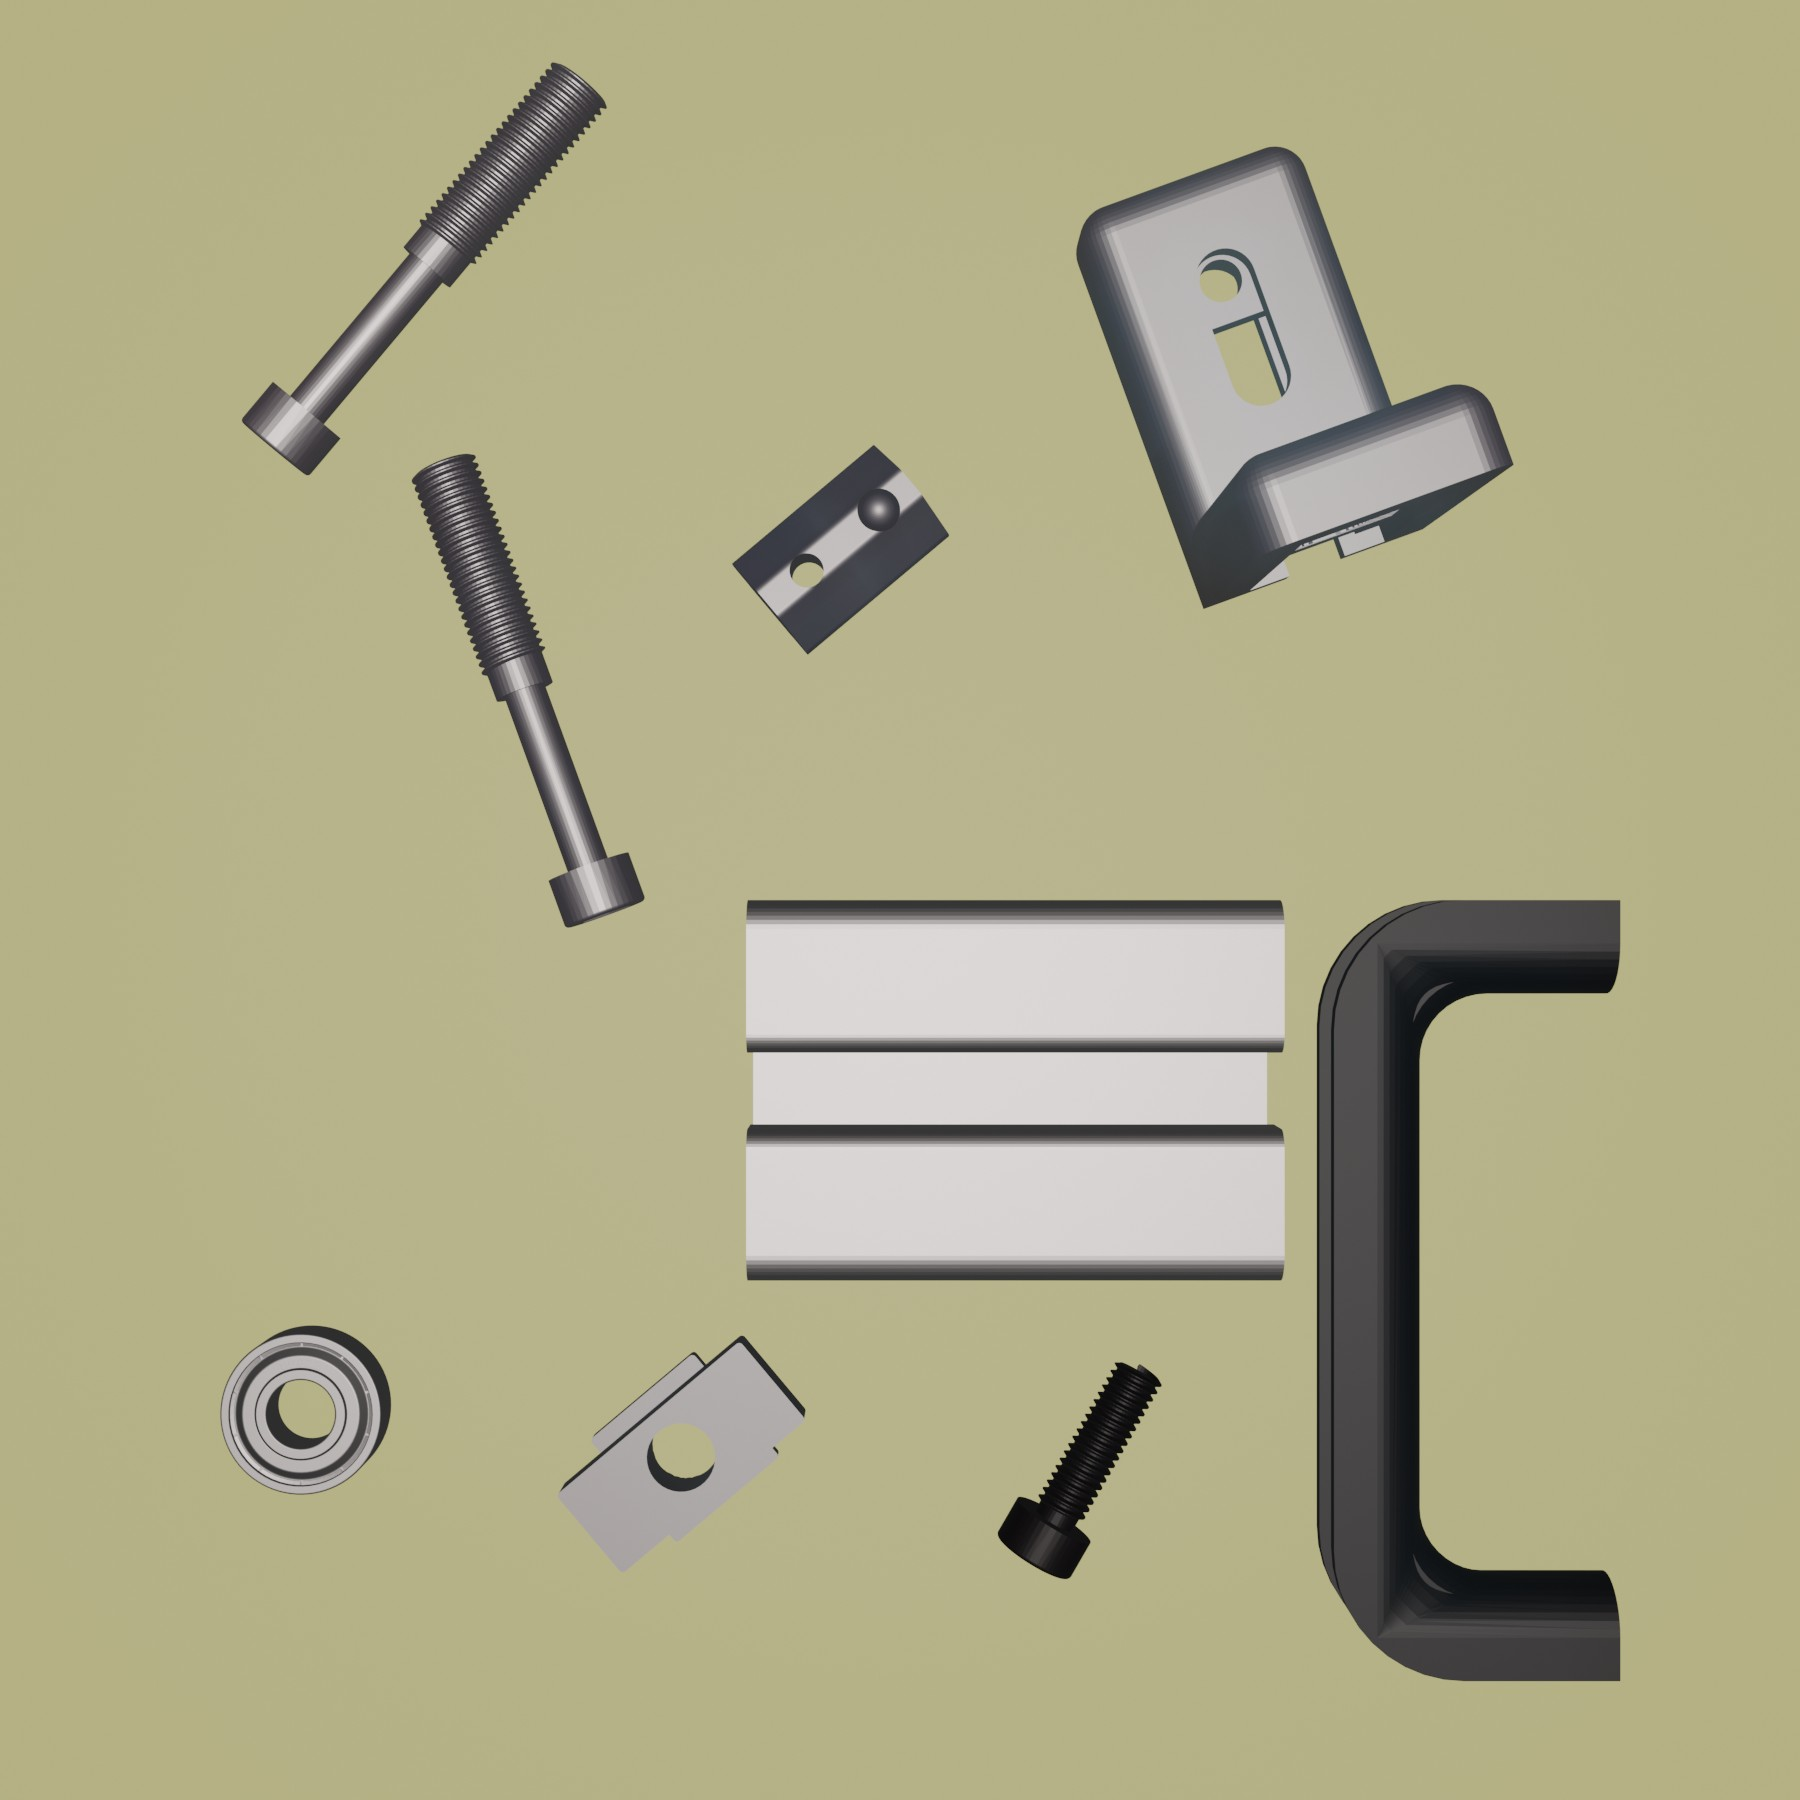Aluminium Extension: (738, 892, 1292, 1289)
Ball Bearing: (214, 1322, 392, 1497)
Multiwinkel: (1075, 142, 1516, 612)
Pull Handle: (1310, 892, 1625, 1686)
Shoulder Socket Head Cap Screw: (241, 54, 608, 476), (409, 448, 648, 931)
Socket Head Cap Screw: (994, 1352, 1164, 1586)
T Nut Square: (554, 1324, 813, 1577)
T Spring Nut: (727, 442, 951, 659)
